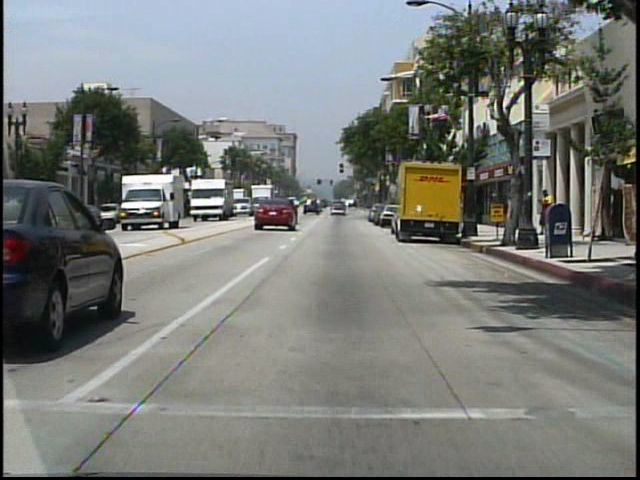person: (537, 187, 554, 237)
